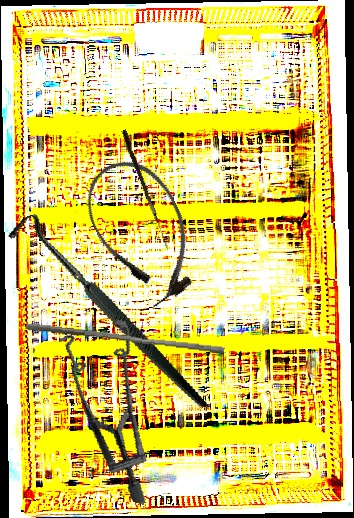Cannula: (72, 145, 213, 317)
Hook Surgical: (4, 183, 208, 446), (119, 129, 174, 250)
Pusher: (24, 322, 226, 355)
Speculum: (19, 303, 196, 506)
